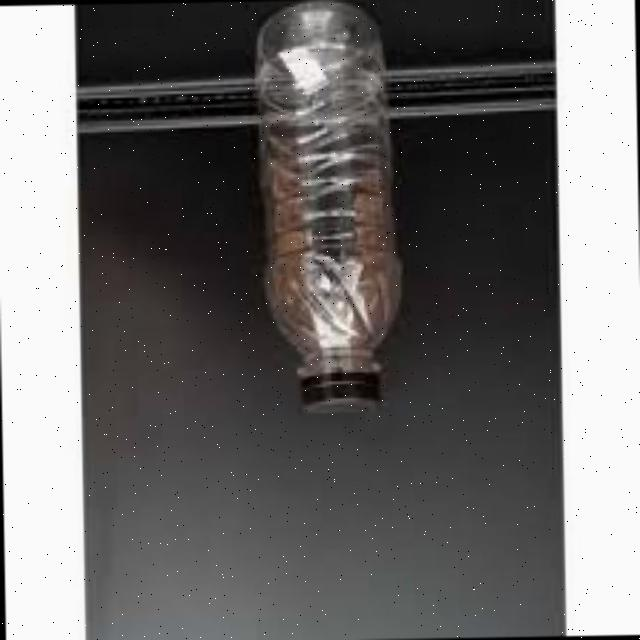bottle: (236, 0, 437, 434)
cap: (297, 376, 378, 422)
